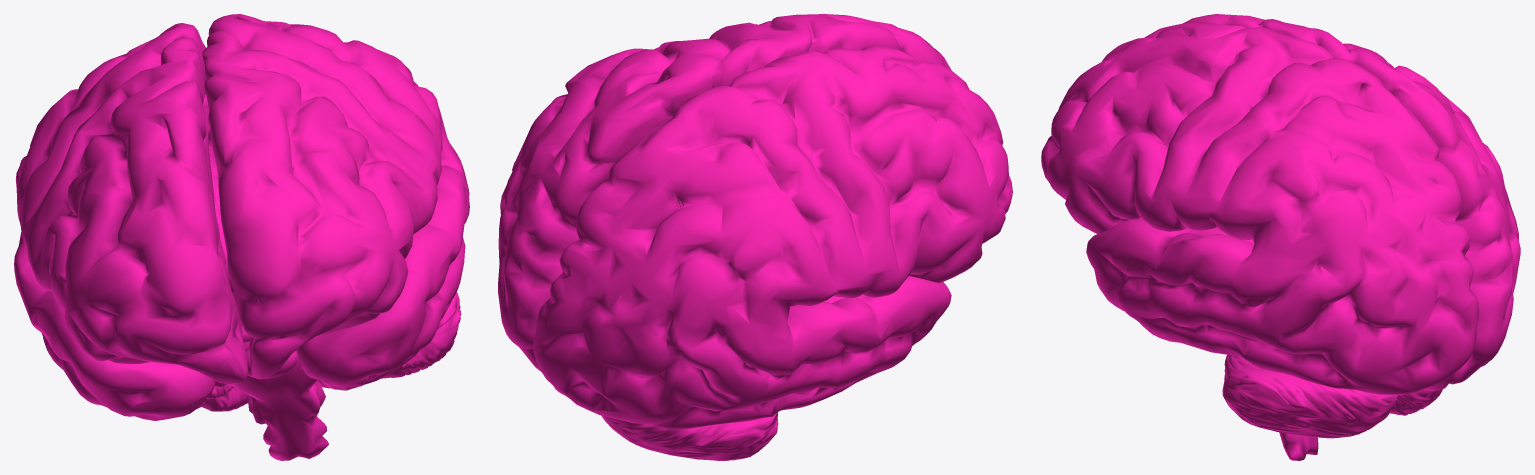
File: brain-simple-mesh.fbx
3 views of the same model, side by side, from view 1: azimuth 30°, elevation 25°; view 2: azimuth 150°, elevation 25°; view 3: azimuth 270°, elevation 25° (orthographic). The views are drawn at different scales.
Parts seen in each view (by area): view 1: default; view 2: default; view 3: default.
Part boxes in pixels (x1=…): default: x1=14, y1=14, x2=469, y2=460; default: x1=498, y1=14, x2=1012, y2=460; default: x1=1041, y1=14, x2=1520, y2=460.
Bounding box in the file's own units: 5.78 × 5.6 × 6.27.
